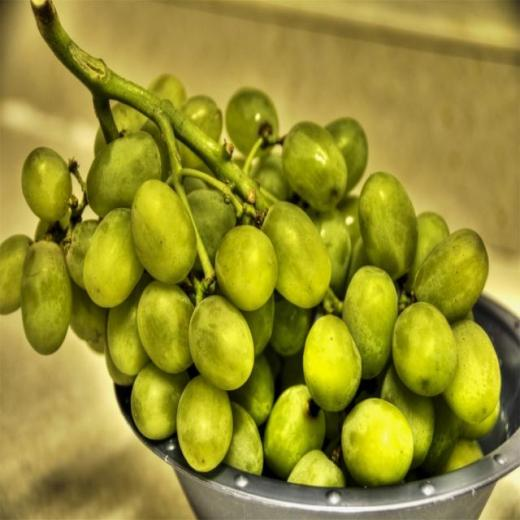Orange: (0, 73, 501, 487)
